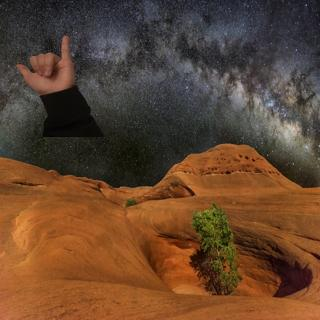HAVE: (12, 32, 84, 105)
